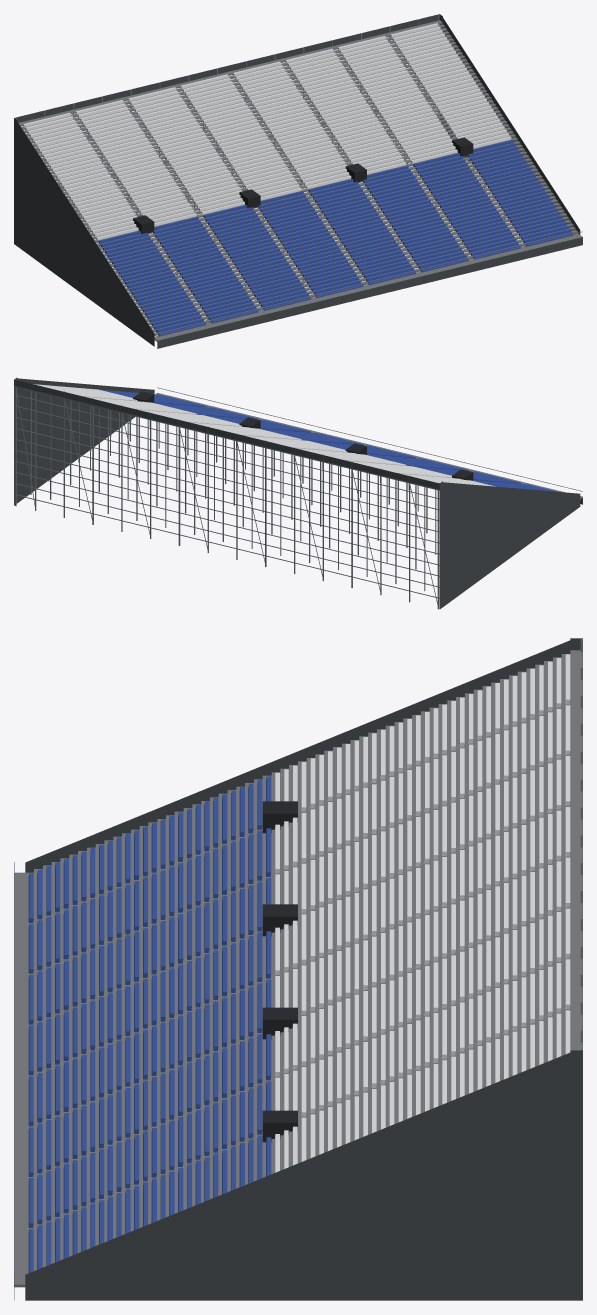
The model's file is rbr_open_t3.glb.
3 views of the same model, one above another, from view 1: azimuth 30°, elevation 25°; view 2: azimuth 150°, elevation 25°; view 3: azimuth 270°, elevation 25° (orthographic). The views are drawn at different scales.
Parts seen in each view (by area): view 1: red-bull-ring-t3; view 2: red-bull-ring-t3; view 3: red-bull-ring-t3.
Boxes of the visible parts, x1,y1,x2,y2 form: red-bull-ring-t3: [14, 14, 582, 348]; red-bull-ring-t3: [14, 377, 582, 609]; red-bull-ring-t3: [14, 638, 582, 1300].
Size of the model in its own units: 88.78 by 25.12 by 51.77.
